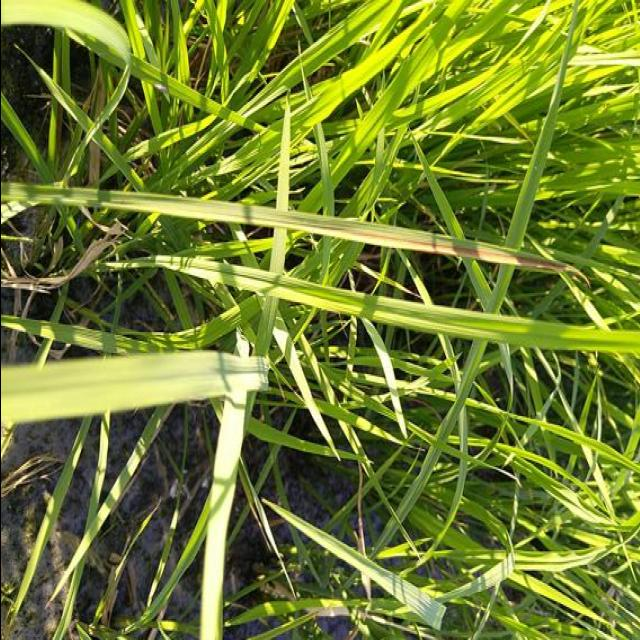Leaf Blight: (168, 201, 563, 273)
